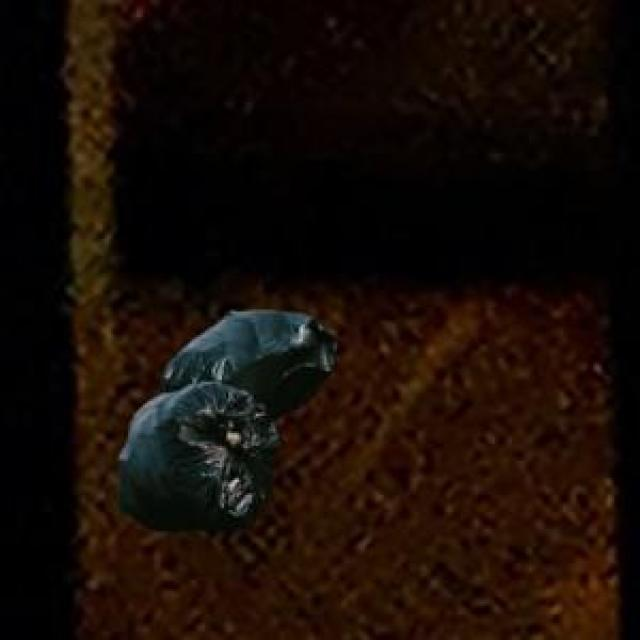waste: (119, 314, 336, 530)
